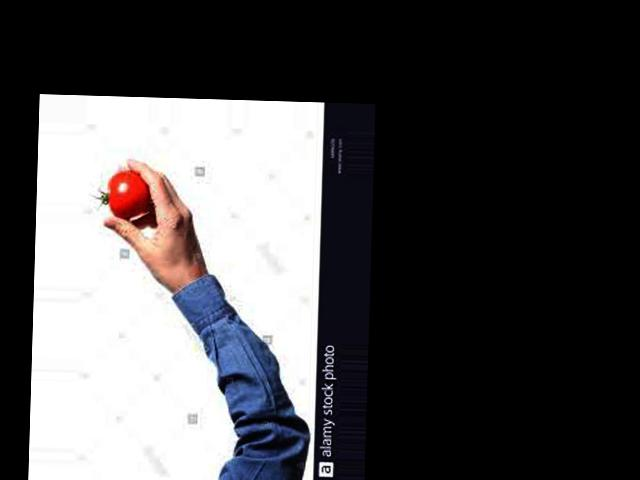tomato: (108, 169, 149, 218)
